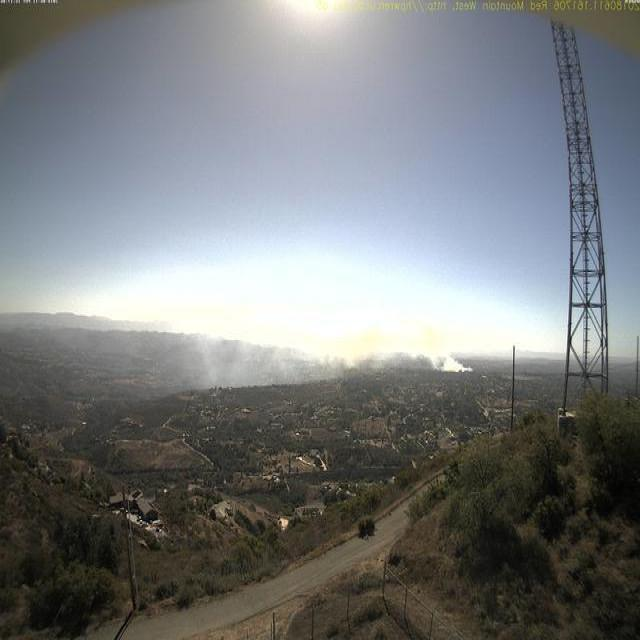smoke: (201, 326, 470, 382)
